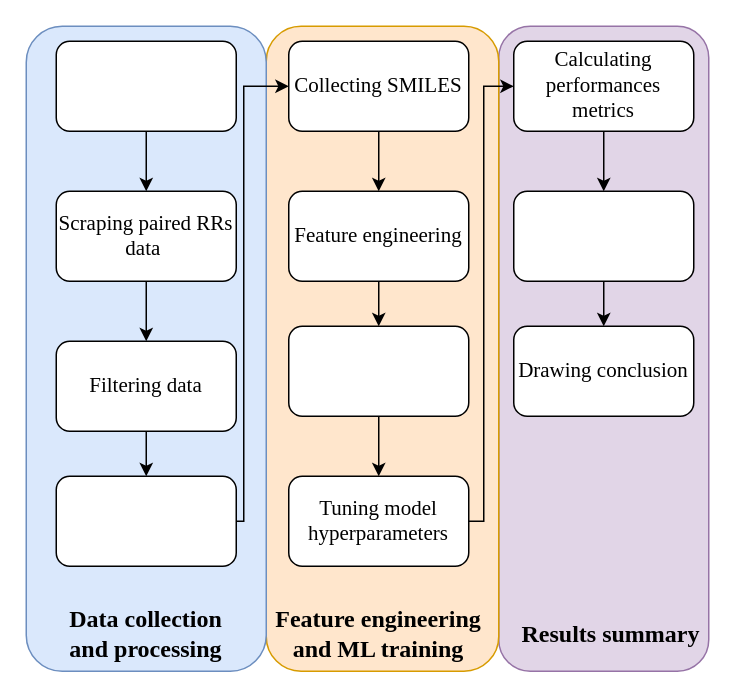
Some shapes in this 750 by 698 pixel diagram are drawn without their labels. Here are the shapes that lost their labels. From the top down, the centre of each, then its label:
pixel 145 85: CoPolDB database website
pixel 603 235: Visualize results
pixel 378 370: Selecting ML model
pixel 145 520: Preprocessing data
